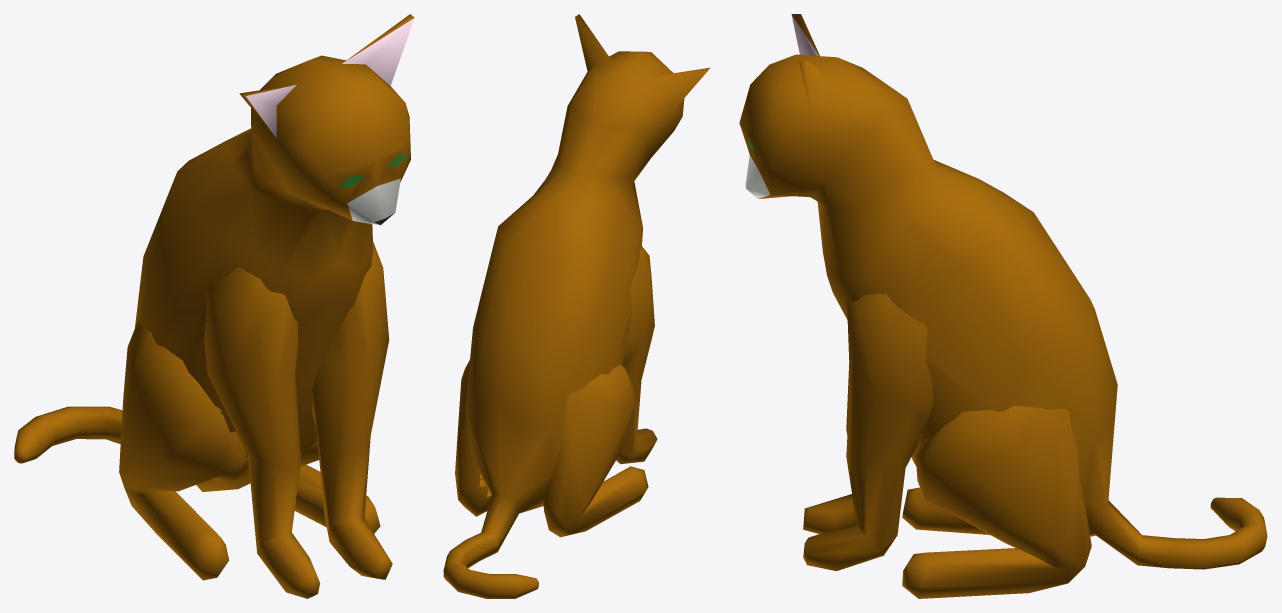
Rendered from Cat.fbx.
The picture shows the model from 3 angles, left to right: view 1: azimuth 30°, elevation 25°; view 2: azimuth 150°, elevation 25°; view 3: azimuth 270°, elevation 25°; orthographic projection. The views are drawn at different scales.
Parts seen in each view (by area): view 1: Plane; view 2: Plane; view 3: Plane.
Boxes of the visible parts, x1,y1,x2,y2 form: Plane: (14, 14, 414, 598); Plane: (443, 14, 709, 598); Plane: (739, 14, 1267, 598).
Size of the model in its own units: 31.99 by 83.69 by 75.16.
1 material, 1 textured.
